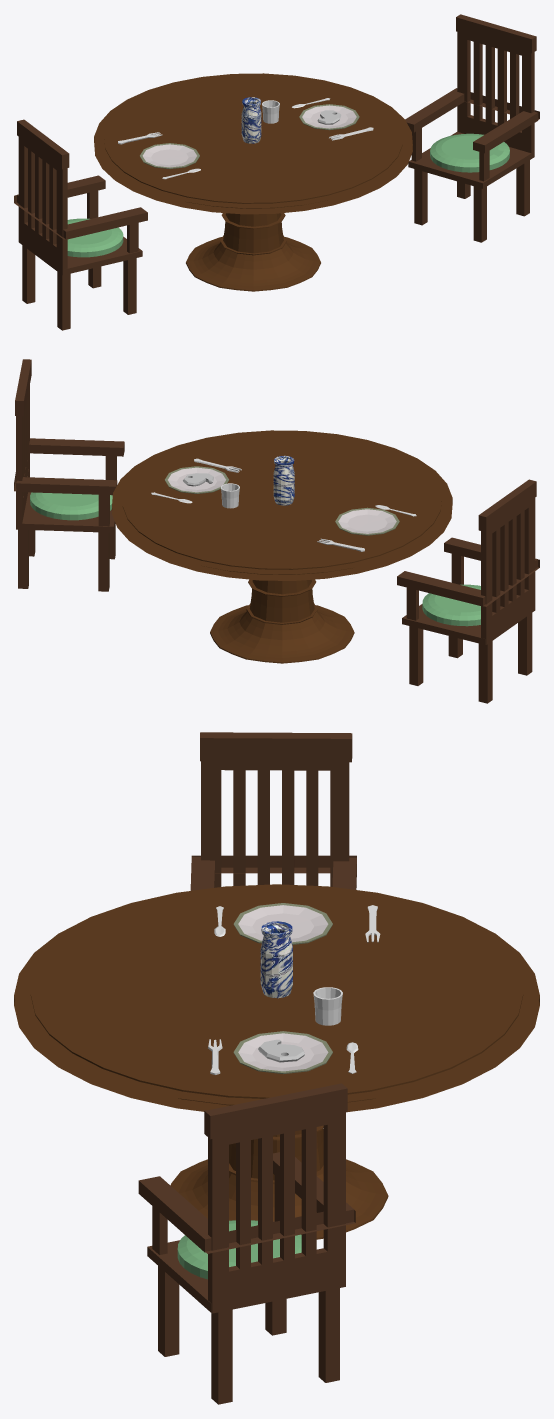
Rendered from table.fbx.
3 renders of one model, top to bottom at view 1: azimuth 30°, elevation 25°; view 2: azimuth 150°, elevation 25°; view 3: azimuth 270°, elevation 25°, orthographic. The views are drawn at different scales.
Visible parts, largest first — view 1: Table, Chair, Chair.001, Plate.001, Plate, Vase, Cube; view 2: Table, Chair.001, Chair, Plate.001, Plate, Vase, Cube; view 3: Table, Chair, Chair.001, Plate.001, Plate, Vase, Cube.
Part boxes in pixels (bbox=[...]): Table: bbox=[94, 73, 412, 291]; Chair: bbox=[405, 14, 539, 242]; Chair.001: bbox=[14, 119, 147, 330]; Plate.001: bbox=[140, 143, 199, 168]; Plate: bbox=[299, 104, 359, 130]; Vase: bbox=[241, 97, 261, 143]; Cube: bbox=[262, 100, 279, 123]; Table: bbox=[112, 430, 452, 663]; Chair.001: bbox=[397, 479, 539, 703]; Chair: bbox=[14, 359, 124, 591]; Plate.001: bbox=[335, 507, 399, 535]; Plate: bbox=[165, 466, 228, 493]; Vase: bbox=[273, 455, 294, 505]; Cube: bbox=[220, 483, 239, 508]; Table: bbox=[14, 884, 539, 1239]; Chair: bbox=[138, 1083, 355, 1404]; Chair.001: bbox=[190, 732, 356, 890]; Plate.001: bbox=[233, 903, 332, 944]; Plate: bbox=[233, 1031, 332, 1074]; Vase: bbox=[260, 921, 292, 998]; Cube: bbox=[313, 987, 342, 1025].
Size of the model in its own units: 1304 by 461 by 750.
